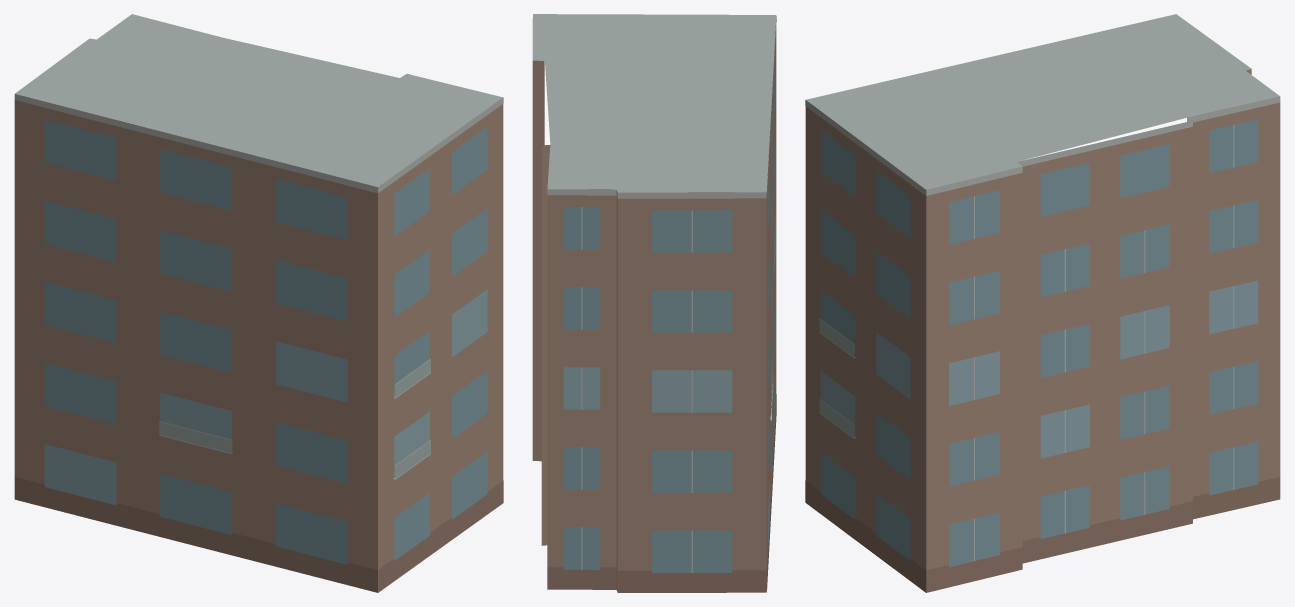
The model's file is survey-upis-32887378.glb.
3 renders of one model, left to right at view 1: azimuth 30°, elevation 25°; view 2: azimuth 150°, elevation 25°; view 3: azimuth 270°, elevation 25°, orthographic.
Visible parts, largest first — view 1: survey-upis-32887378.tmp; view 2: survey-upis-32887378.tmp; view 3: survey-upis-32887378.tmp.
Part boxes in pixels (x1=…): survey-upis-32887378.tmp: x1=14, y1=14, x2=503, y2=592; survey-upis-32887378.tmp: x1=532, y1=14, x2=776, y2=592; survey-upis-32887378.tmp: x1=805, y1=14, x2=1280, y2=592.
Bounding box in the file's own units: 14.99 × 16 × 17.09.
